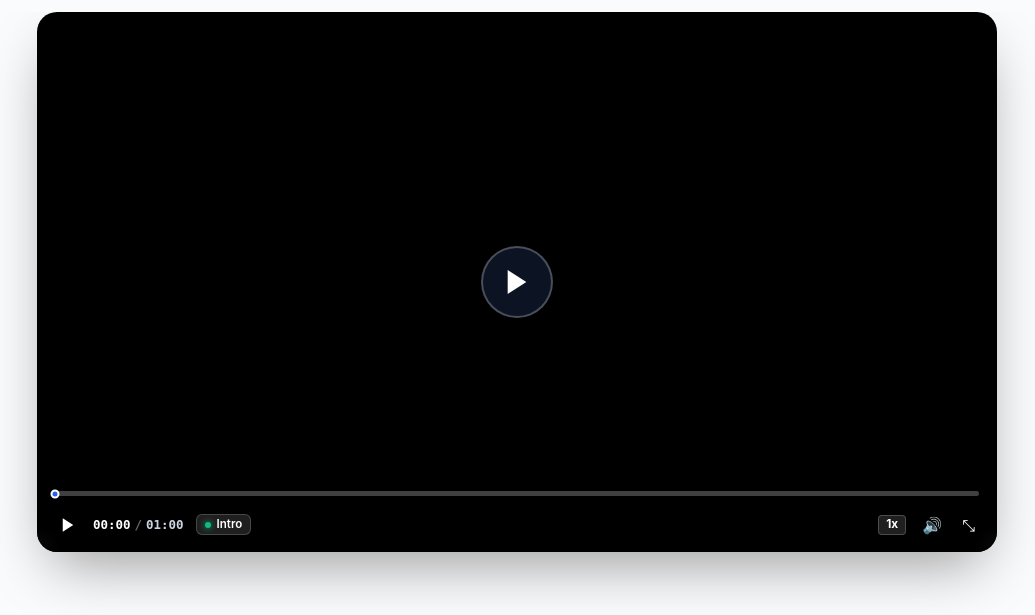
it: Cinematic Video Player & Brand Sizzle Suites › toggles play/pause state and cycles playback speed
Initial center play button
Click the button named "Play video reel": (517, 282) [481,246,553,318]
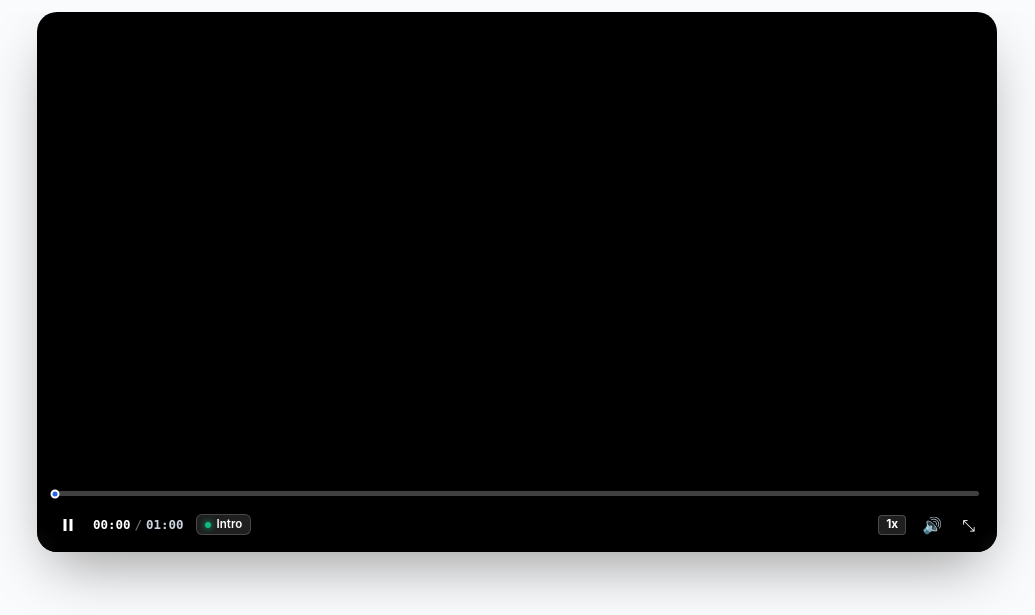
Expected: the button named "Pause video" is shown
Toggle pause
Click the button named "Pause video": (68, 525) [55,512,81,538]
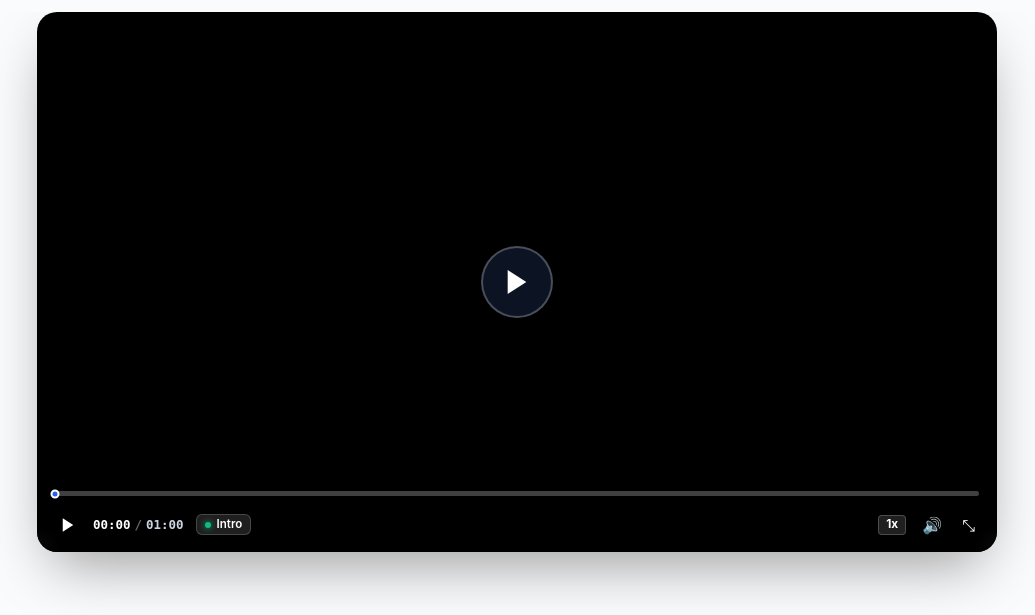
Expected: the button named "Play video" is shown, [55,512,81,538]
Cycle speed button
Click the button named "Playback speed 1x": (892, 525) [878,515,906,535]
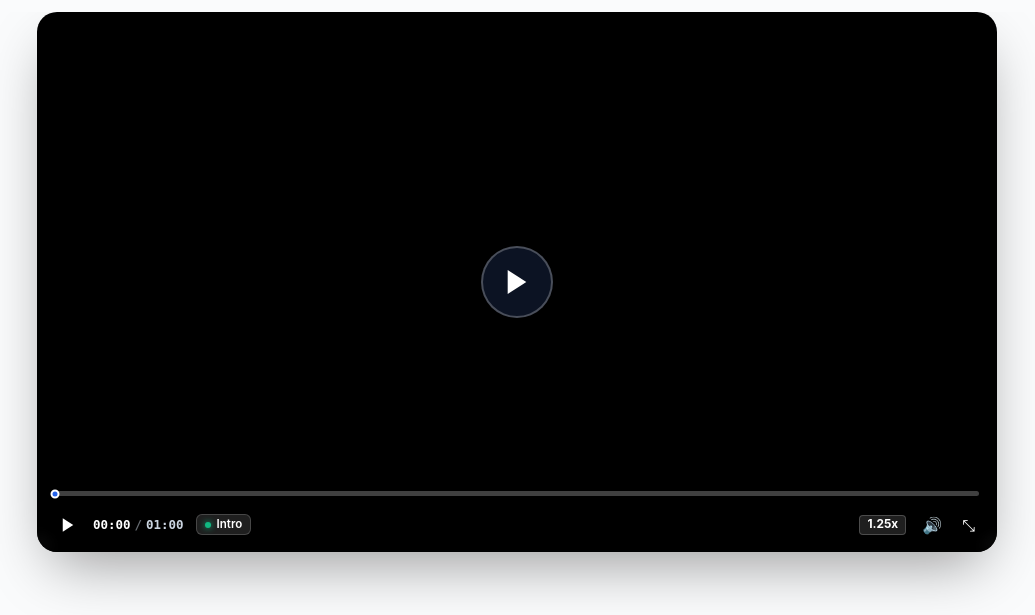
Expected: the button "1.25x" is shown, [860,515,906,535]
